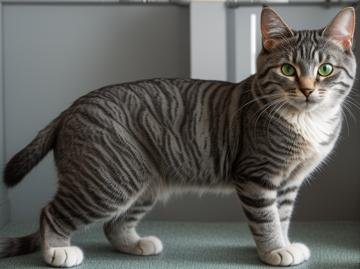cat: (2, 2, 360, 269)
